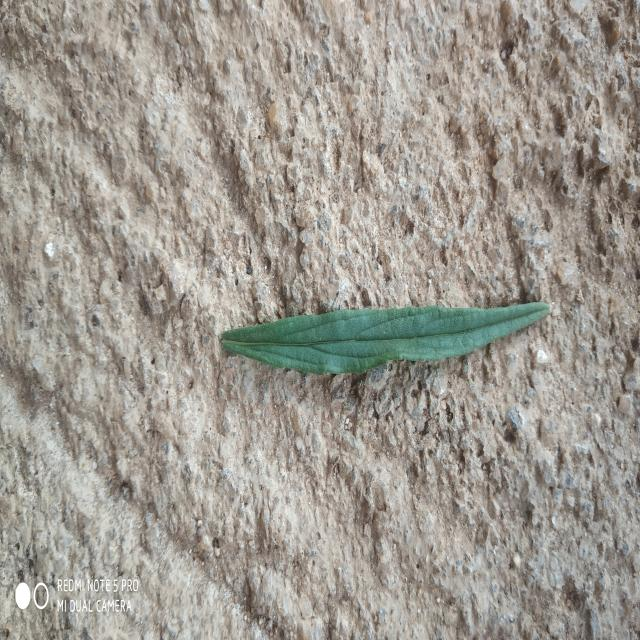thambe: (221, 302, 550, 376)
